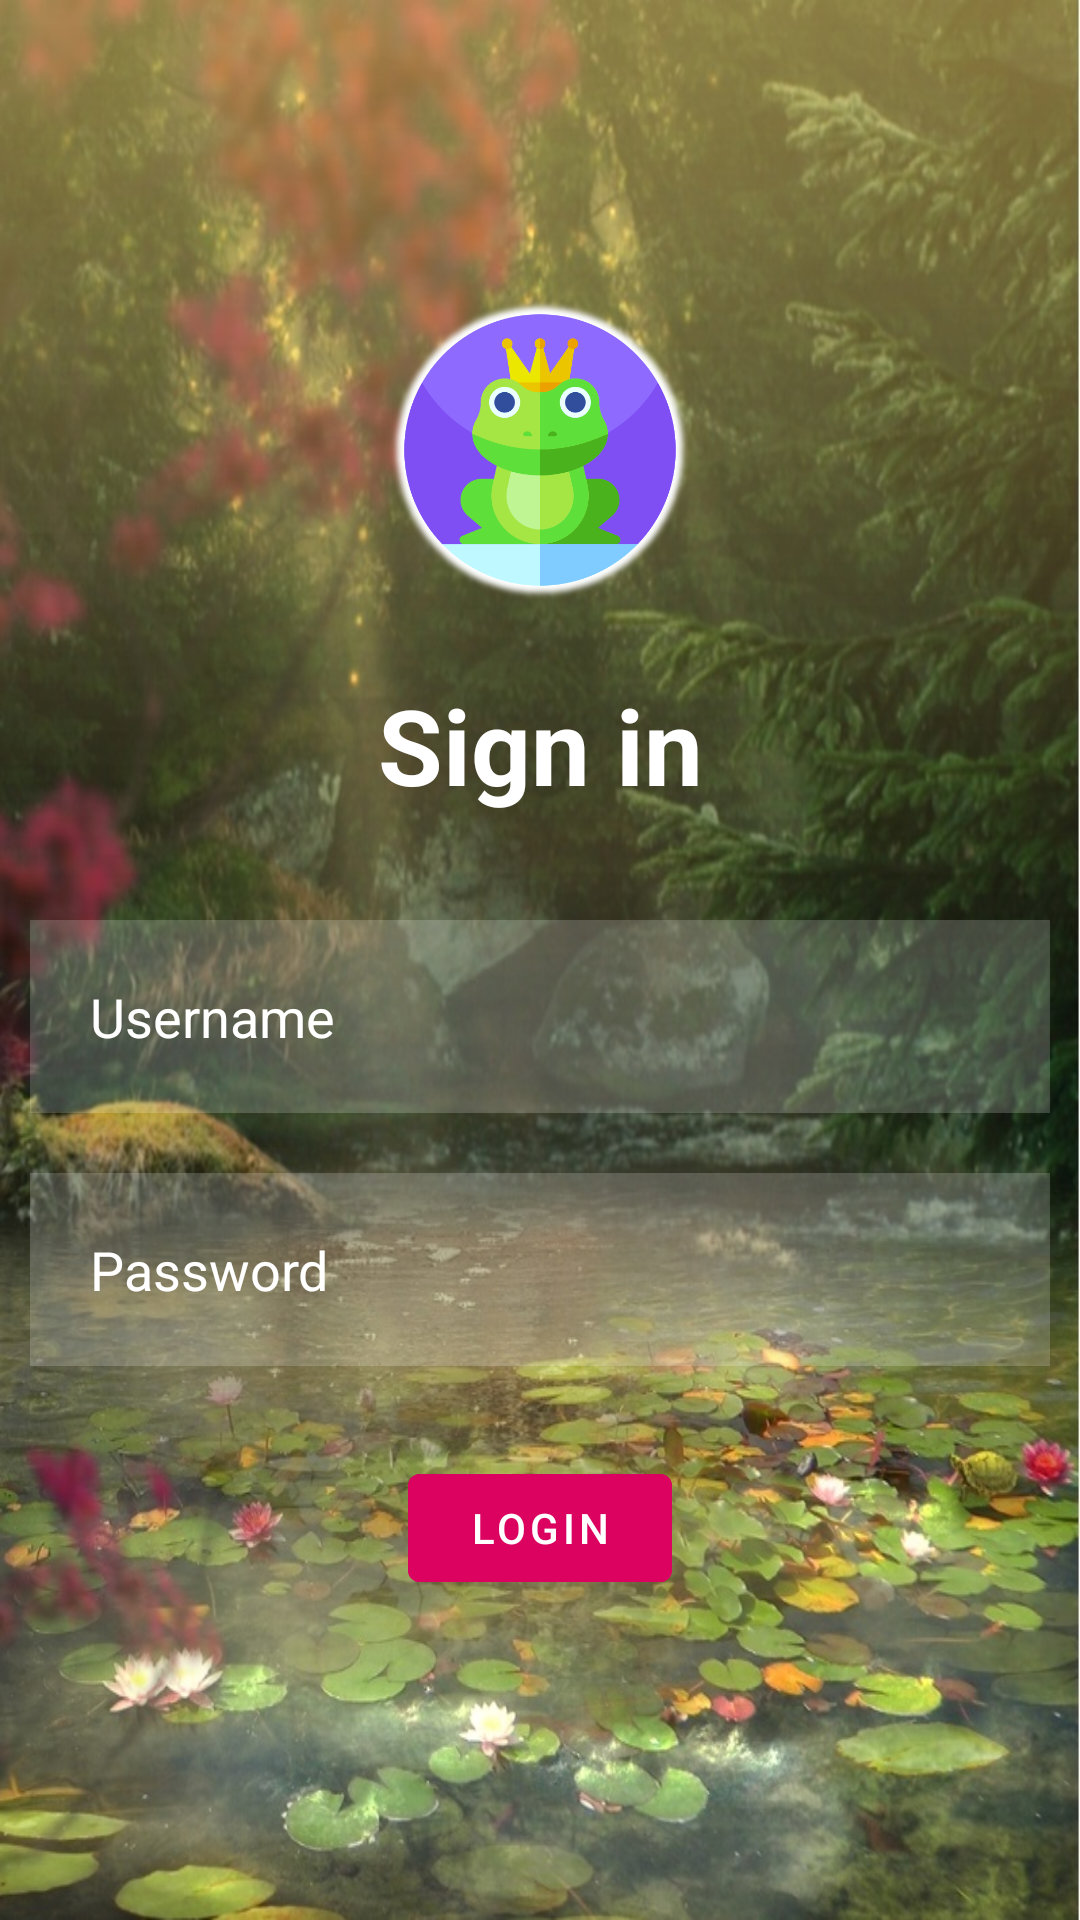

Point at icon controls on the screen. Image size 1080×1920, points as point (x, y).
prince: point (540, 450)
